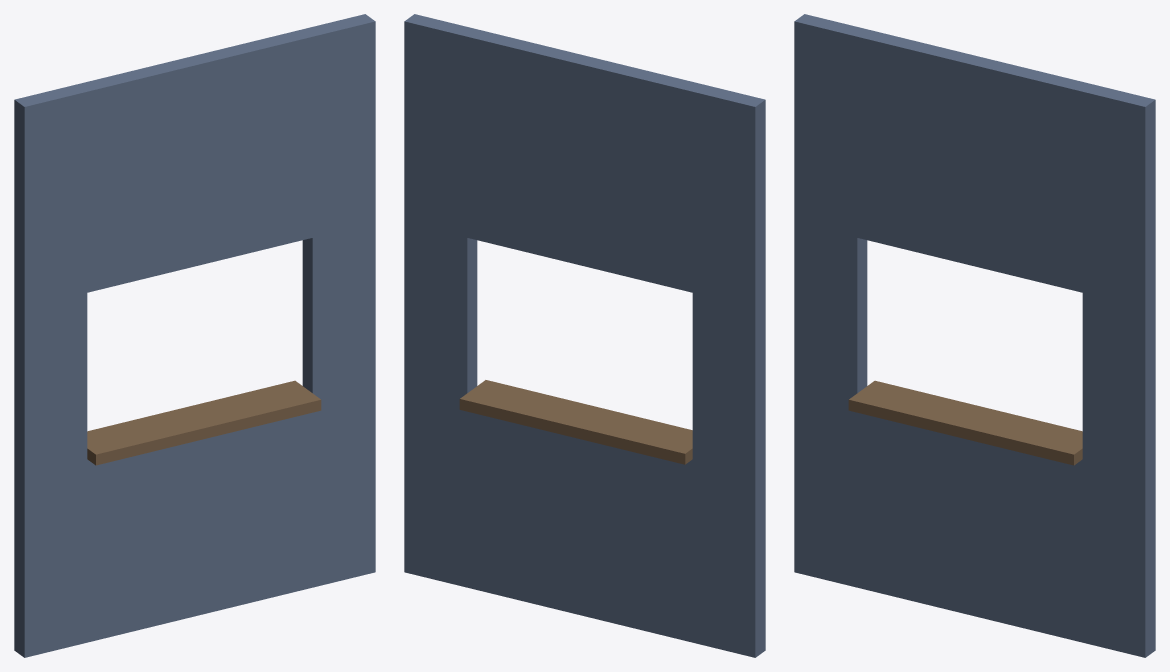
File: Mesh_Wall_E3.fbx
3 views of the same model, side by side, from view 1: azimuth 30°, elevation 25°; view 2: azimuth 150°, elevation 25°; view 3: azimuth 330°, elevation 25° (orthographic).
Parts seen in each view (by area): view 1: Mesh_Wall_E3; view 2: Mesh_Wall_E3; view 3: Mesh_Wall_E3.
Boxes of the visible parts, x1,y1,x2,y2 form: Mesh_Wall_E3: [14, 14, 375, 657]; Mesh_Wall_E3: [404, 14, 765, 657]; Mesh_Wall_E3: [794, 14, 1155, 657].
Bounding box in the file's own units: 2 × 3 × 0.2574.
